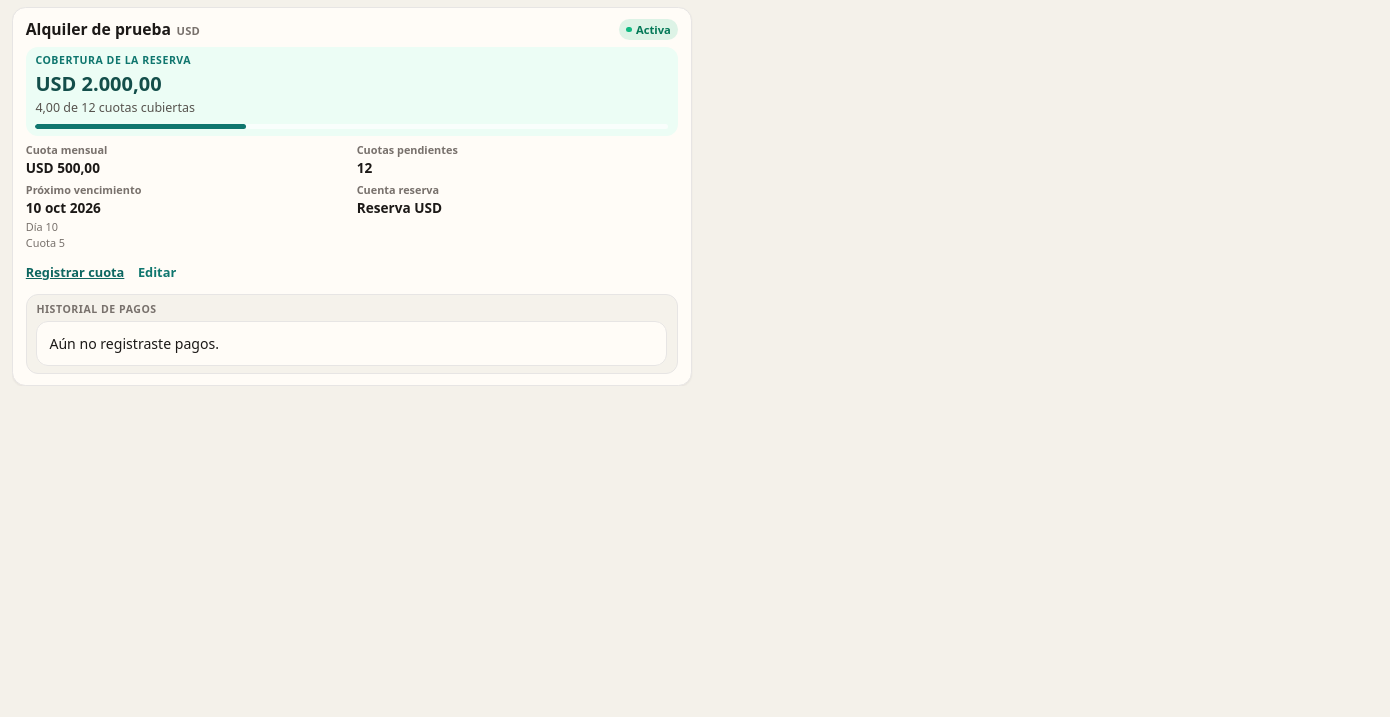
Test: HousingPage › opens the payment form with installmentAmount as visual default
This screenshot has width=1390, height=717.
What coordinates should you click on to do the following:
click the button "Registrar cuota"
I would click on:
 (75, 273)
Its box is x1=26 y1=258 x2=124 y2=288.
(page scrolled)
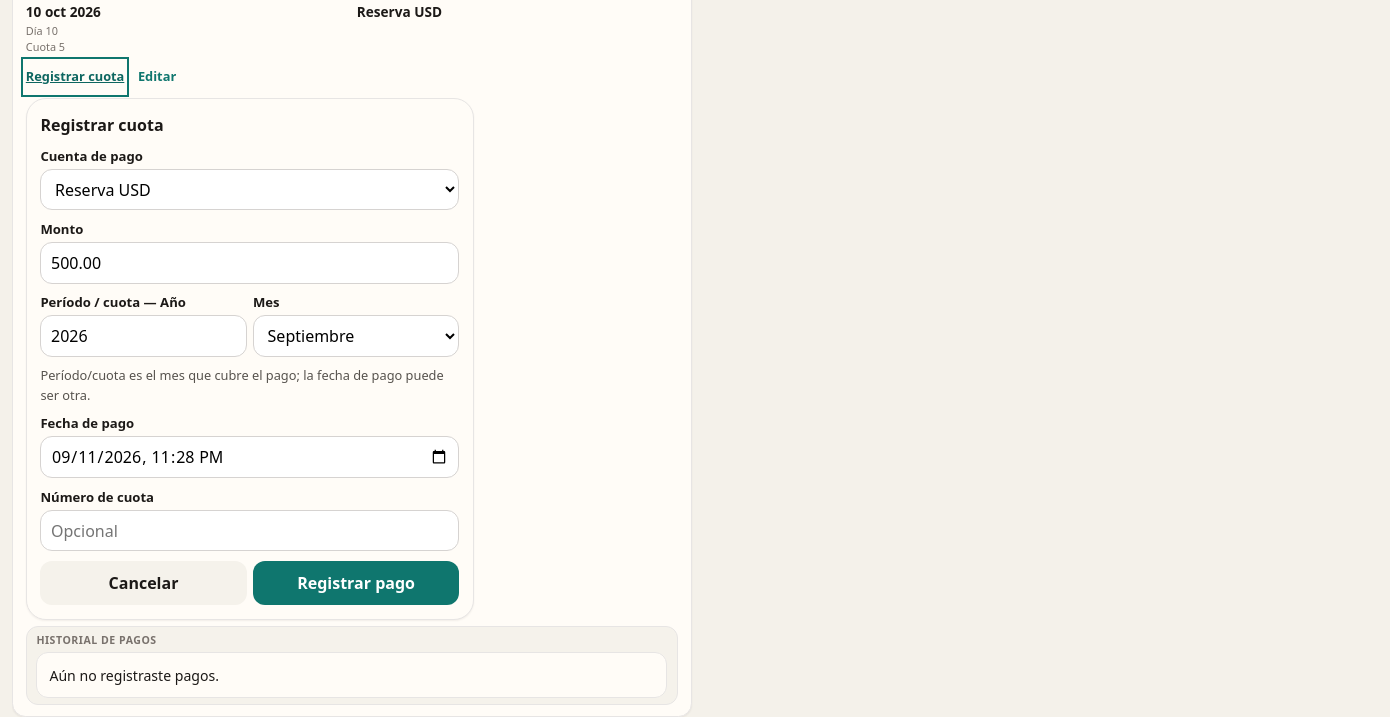
Expected: the dropdown labelled "Cuenta de pago" is shown, x1=40 y1=169 x2=459 y2=210
Expected: the field labelled "Monto" holds "500.00", x1=40 y1=242 x2=459 y2=284
Expected: the field labelled "Fecha de pago" is shown, x1=40 y1=436 x2=459 y2=478
